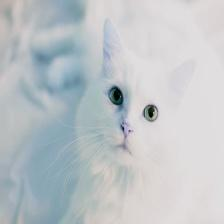kedo: (82, 20, 198, 176)
